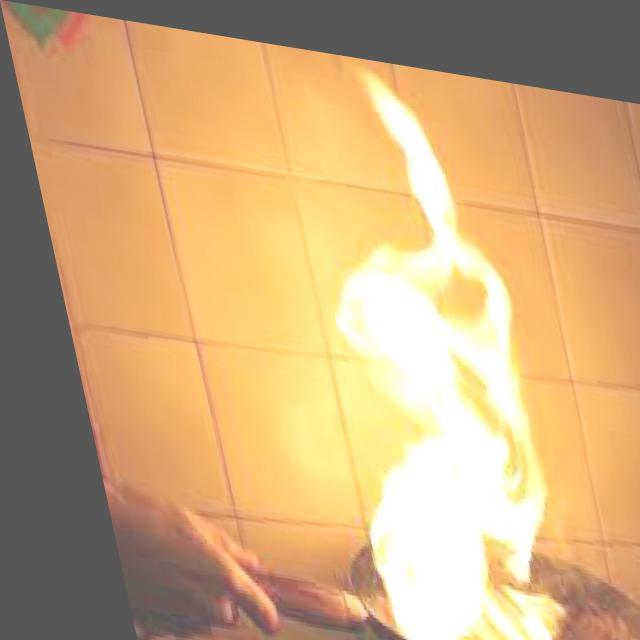Fire: (262, 53, 604, 639)
